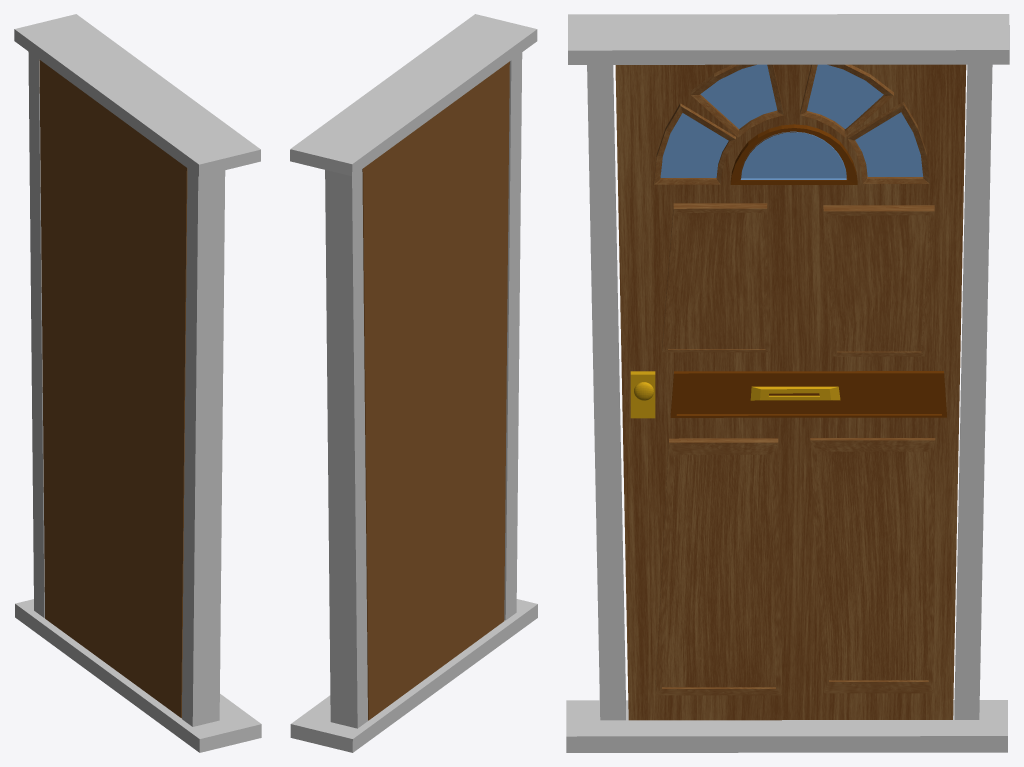
Rendered from puertaConTex.fbx.
3 views of the same model, side by side, from view 1: azimuth 30°, elevation 25°; view 2: azimuth 150°, elevation 25°; view 3: azimuth 270°, elevation 25° (orthographic). The views are drawn at different scales.
Parts seen in each view (by area): view 1: PuertaBase.001, jamba, jamba2; view 2: PuertaBase.001, jamba, jamba2; view 3: PuertaBase.001, jamba, Cube.017, Cube.012, jamba2, ventana.010, Cube.014, Cube.015, Cube.013, ventana.011, ventana.014, marco de la ventana.002 (+4 smaller).
Part boxes in pixels (x1,y1,x2,y2): PuertaBase.001: [39, 59, 187, 718]; jamba: [14, 14, 261, 752]; jamba2: [28, 51, 44, 618]; PuertaBase.001: [362, 61, 509, 720]; jamba: [290, 14, 537, 752]; jamba2: [325, 169, 367, 728]; PuertaBase.001: [615, 64, 966, 720]; jamba: [566, 14, 1009, 752]; Cube.017: [655, 438, 782, 695]; Cube.012: [810, 438, 935, 693]; jamba2: [954, 64, 992, 719]; ventana.010: [660, 64, 923, 179]; Cube.014: [823, 205, 934, 356]; Cube.015: [662, 203, 770, 352]; Cube.013: [670, 371, 946, 417]; ventana.011: [730, 124, 857, 184]; ventana.014: [848, 101, 929, 183]; marco de la ventana.002: [653, 103, 735, 184].
Bounding box in the file's own units: 94.04 × 853 × 488.
